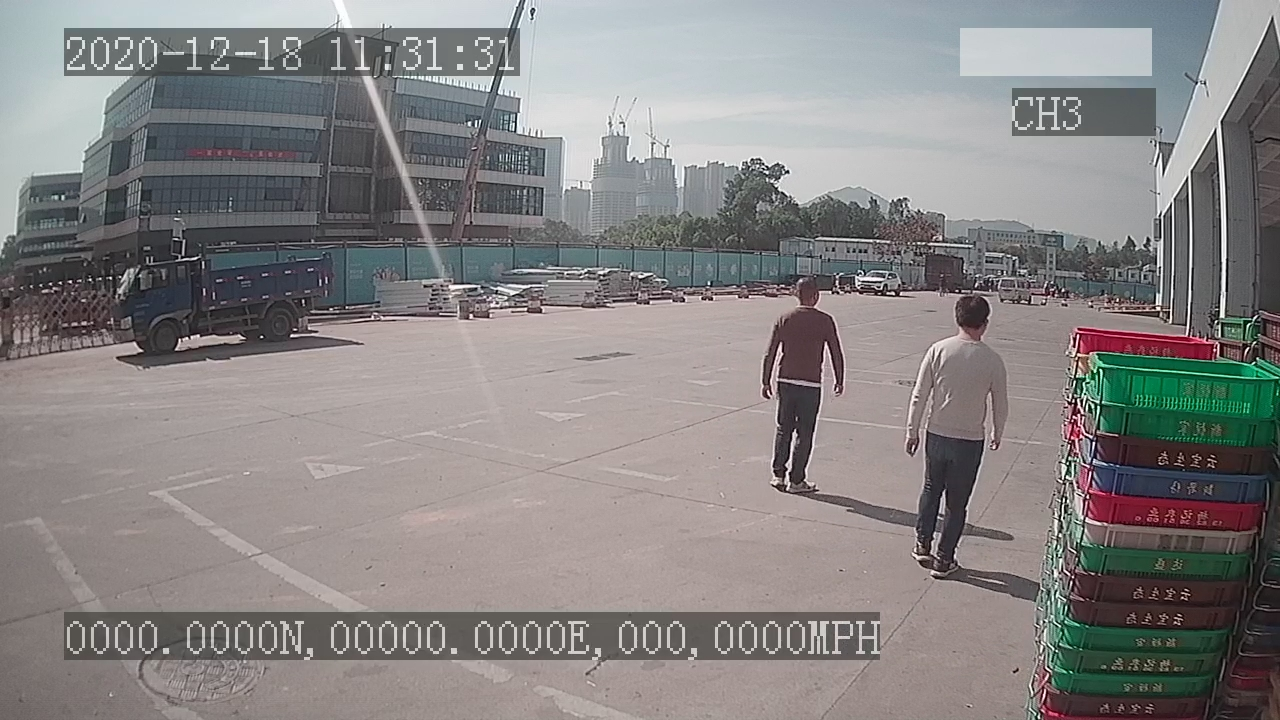person: (905, 294, 1011, 582), (763, 275, 849, 495)
